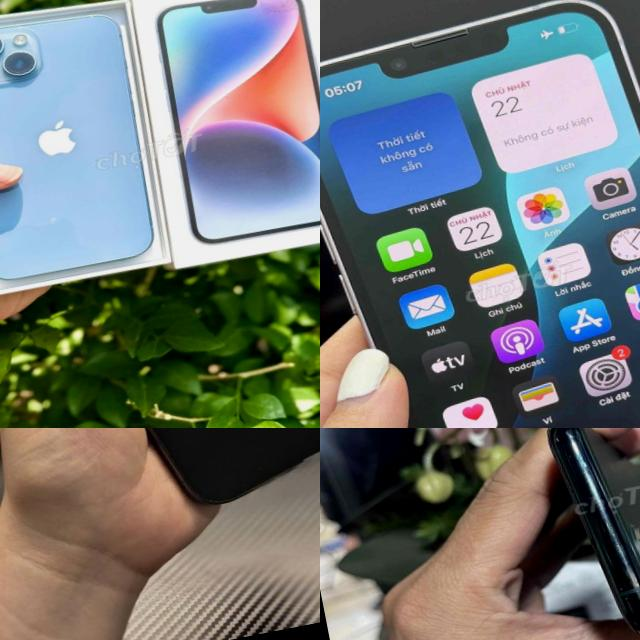scratch: (617, 572, 640, 638)
